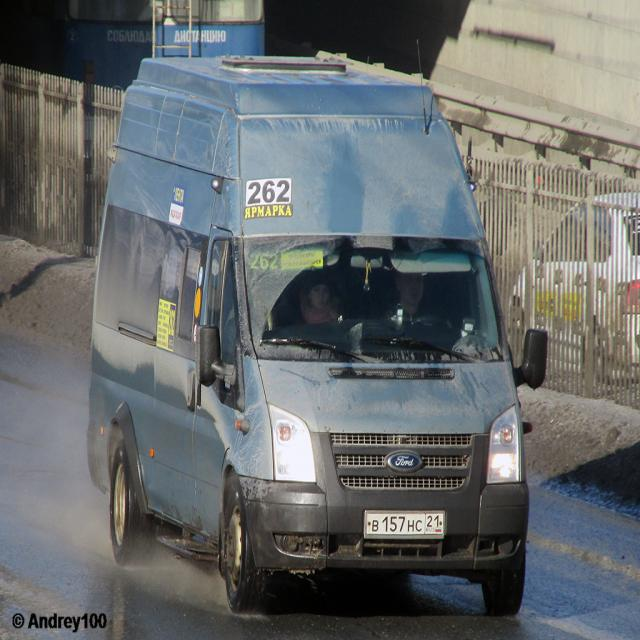number-of-bus: (247, 179, 295, 206), (249, 250, 282, 274)
